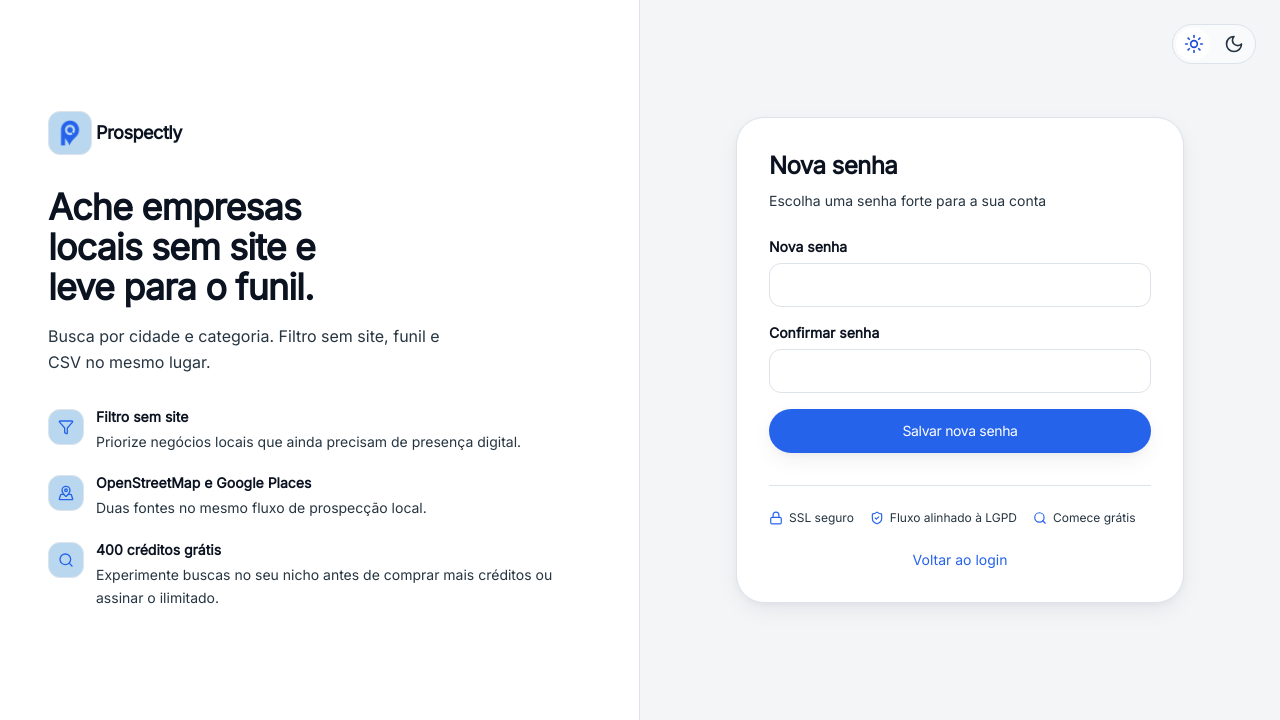
Test: ResetPasswordPage › validates password strength
In the password field labelled "Nova senha": (960, 285) top-left (769, 263), bottom-right (1151, 307), type "short"
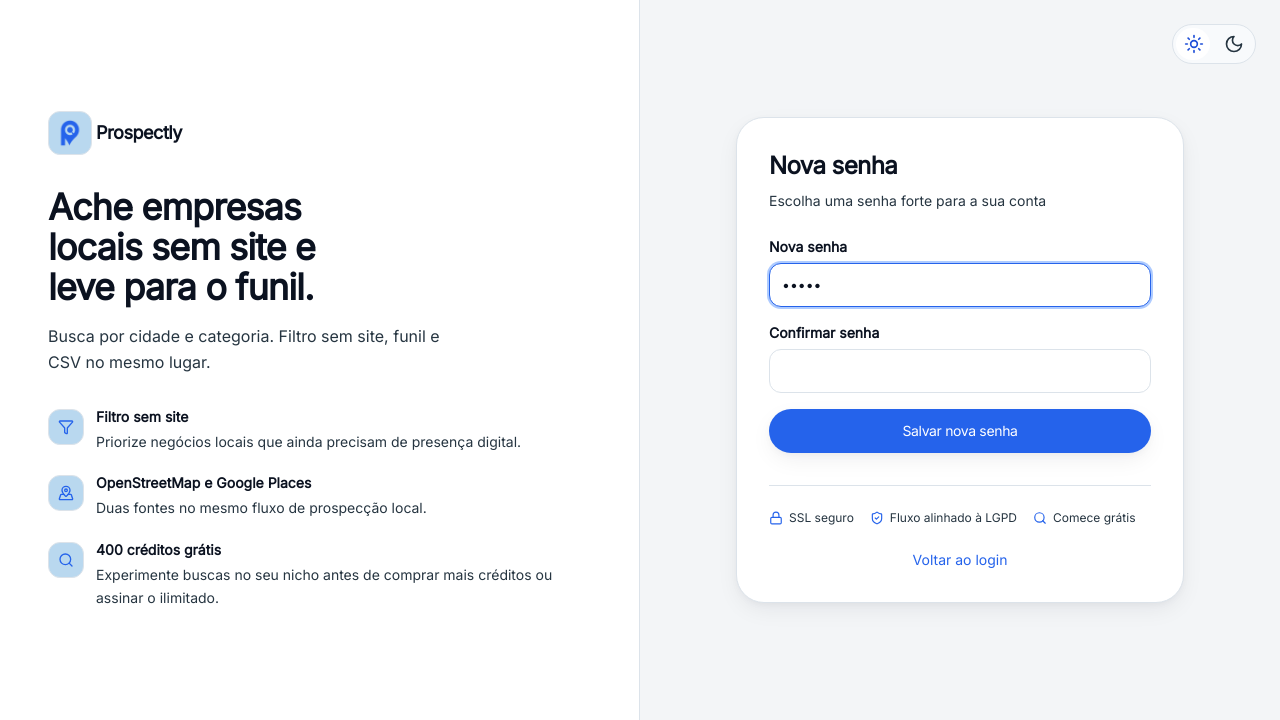
In the password field labelled "Confirmar senha": (960, 371) top-left (769, 349), bottom-right (1151, 393), type "short"
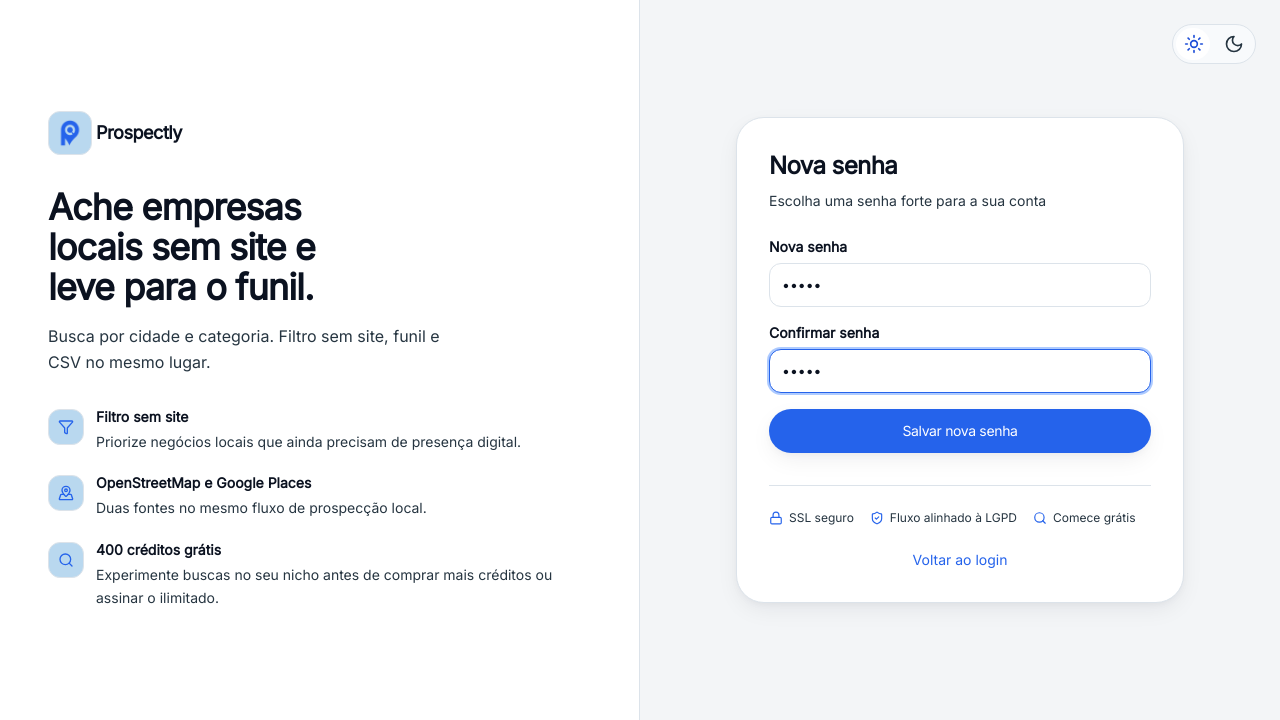
Click the button "Salvar nova senha": (960, 431) top-left (769, 409), bottom-right (1151, 453)
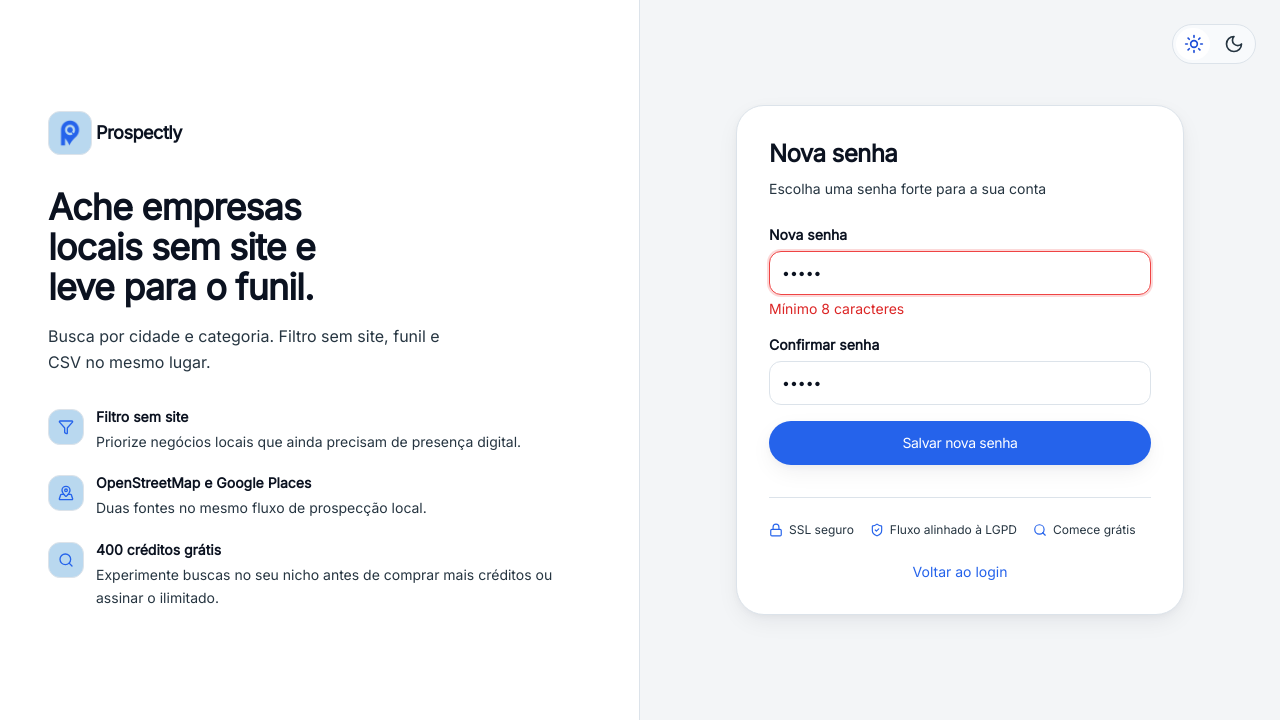
Now the text "Mínimo 8 caracteres" is shown, box top-left (769, 300), bottom-right (904, 317)
